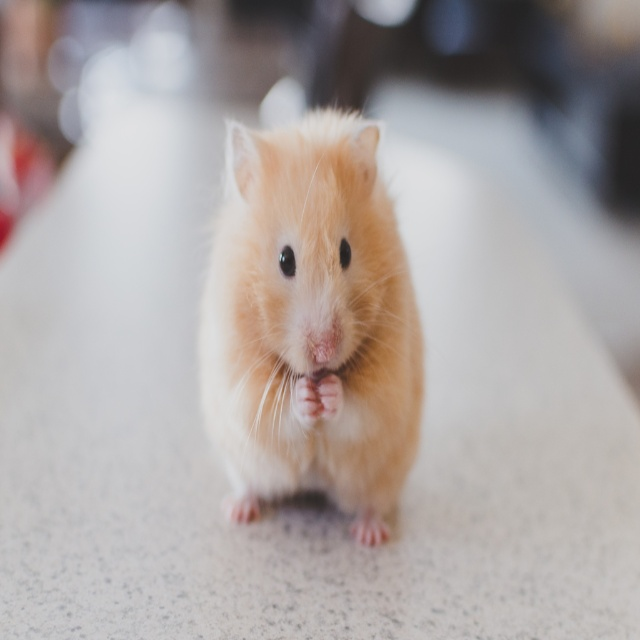Mouse: (198, 95, 424, 546)
